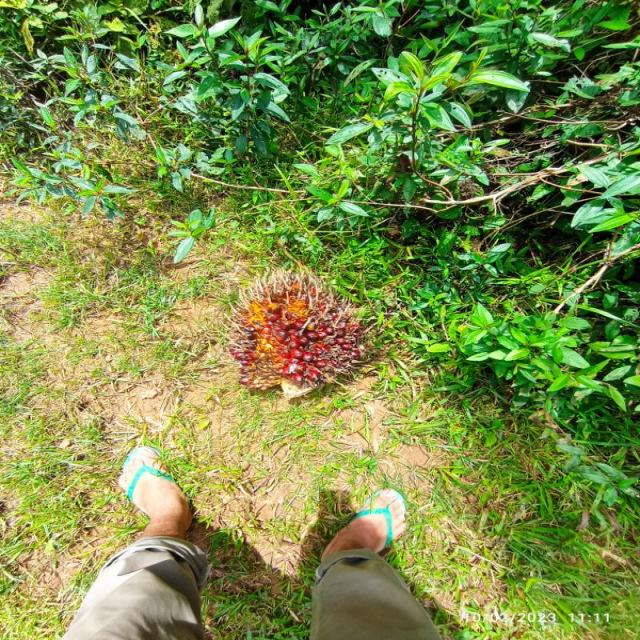fraksi 3: (210, 266, 372, 412)
